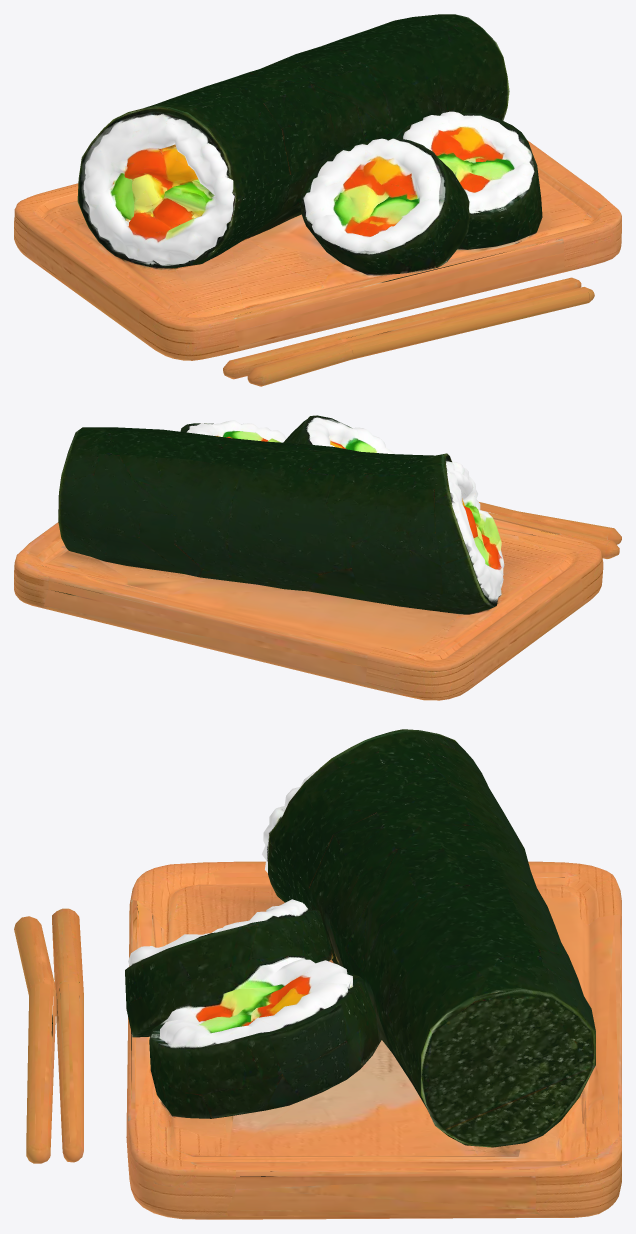
Rendered from sushi.glb.
3 renders of one model, top to bottom at view 1: azimuth 30°, elevation 25°; view 2: azimuth 150°, elevation 25°; view 3: azimuth 270°, elevation 25°, orthographic. The views are drawn at different scales.
Parts seen in each view (by area): view 1: Mesh_0_Material.001_0; view 2: Mesh_0_Material.001_0; view 3: Mesh_0_Material.001_0.
Part boxes in pixels (x1,y1,x2,y2): Mesh_0_Material.001_0: [14, 14, 621, 386]; Mesh_0_Material.001_0: [14, 415, 621, 700]; Mesh_0_Material.001_0: [14, 729, 621, 1219].
Size of the model in its own units: 1.89 by 0.6771 by 1.57.
Materials: 1 (1 with a texture image).
